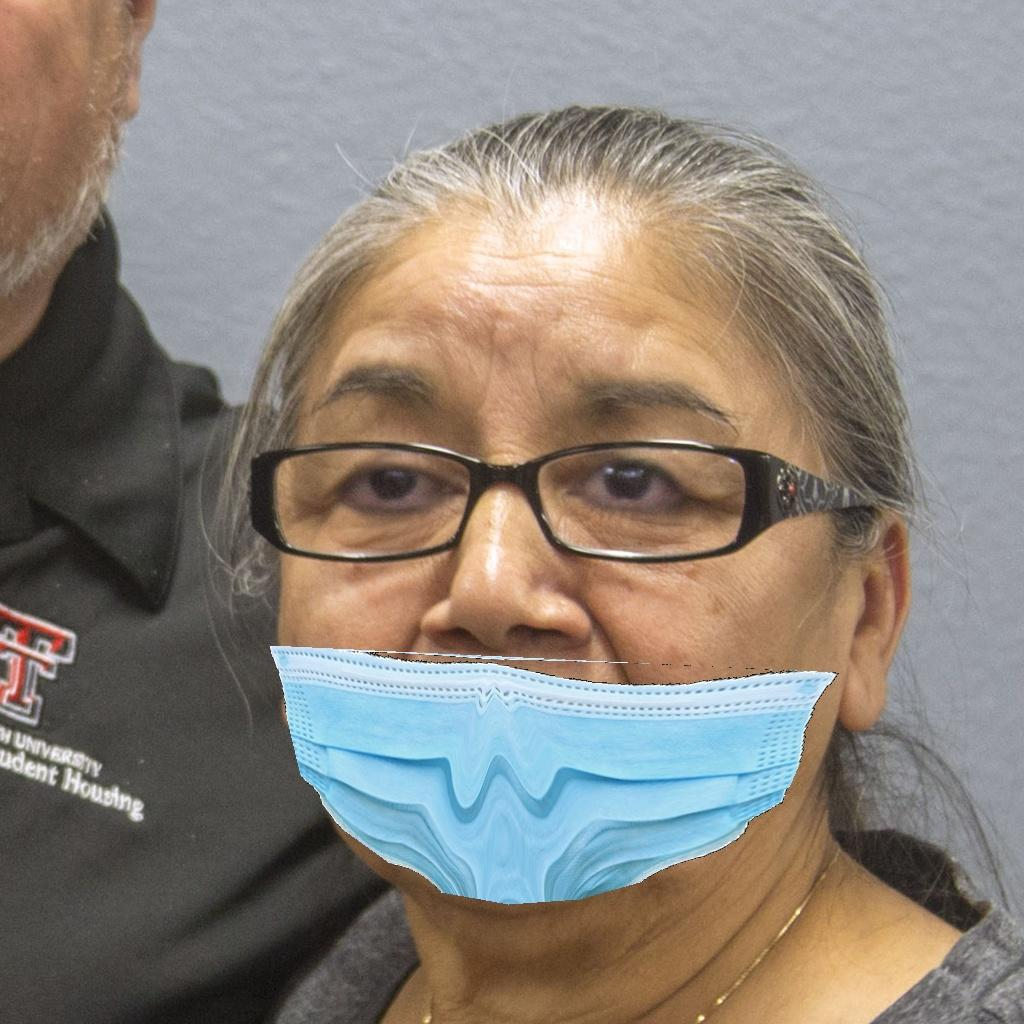Máscara Incorreta: (223, 293, 873, 906)
